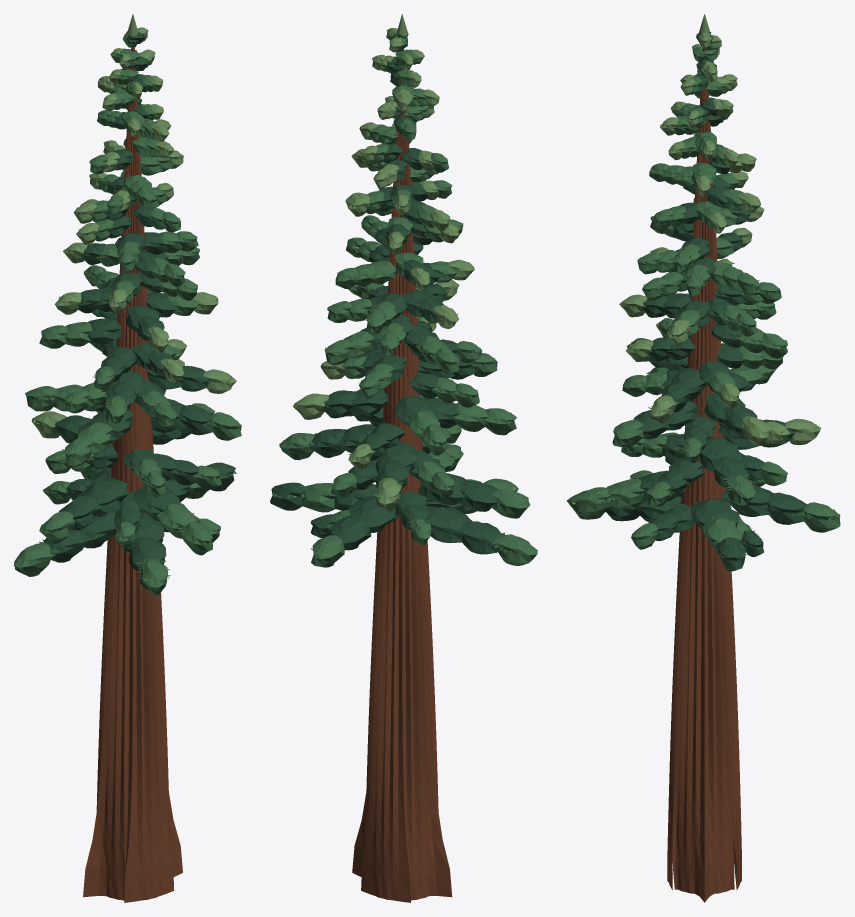
The model's file is redwood_canopy.meshopt.glb.
3 renders of one model, left to right at view 1: azimuth 30°, elevation 25°; view 2: azimuth 150°, elevation 25°; view 3: azimuth 270°, elevation 25°, orthographic.
Parts seen in each view (by area): view 1: redwood_canopy; view 2: redwood_canopy; view 3: redwood_canopy.
Boxes of the visible parts, x1,y1,x2,y2 form: redwood_canopy: (14,14,241,902); redwood_canopy: (270,14,537,902); redwood_canopy: (566,14,840,902).
Bounding box in the file's own units: 20.53 × 70.2 × 20.17.
